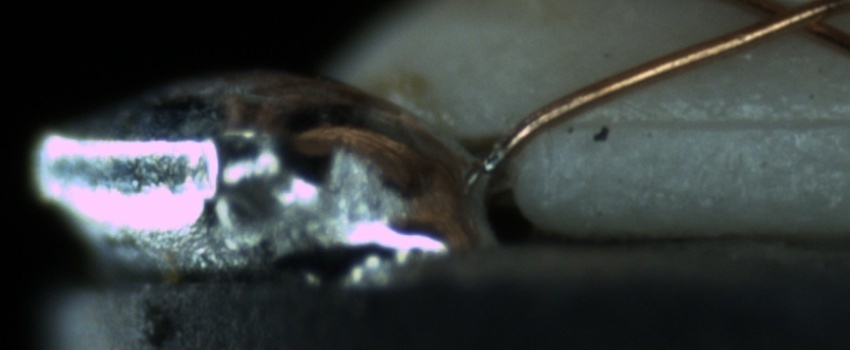CL: (733, 0, 846, 45)
DL: (599, 89, 850, 156)
TS: (480, 139, 511, 176)
